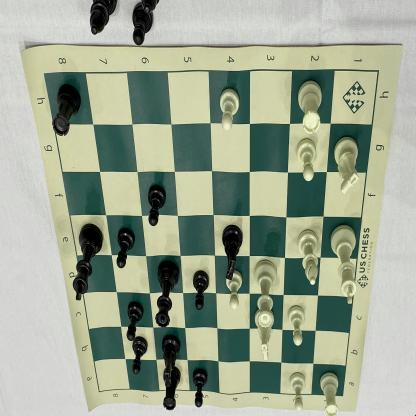black-king: (70, 220, 107, 304)
black-knight: (218, 223, 246, 282), (158, 333, 184, 387)
black-pawn: (144, 184, 168, 230), (114, 224, 136, 274), (189, 366, 210, 411), (191, 268, 212, 312), (125, 298, 144, 342), (130, 334, 148, 376)
black-queen: (153, 256, 183, 328)
black-rook: (51, 83, 83, 146), (162, 367, 184, 414)
white-bishop: (295, 226, 322, 290)
white-king: (329, 220, 363, 306)
white-pawn: (218, 84, 242, 135), (295, 136, 318, 185), (284, 302, 308, 348), (224, 268, 246, 313), (288, 371, 309, 413)
white-queen: (250, 258, 281, 329)
white-rook: (332, 134, 363, 198), (296, 78, 327, 137), (252, 308, 277, 366), (318, 371, 345, 416)
